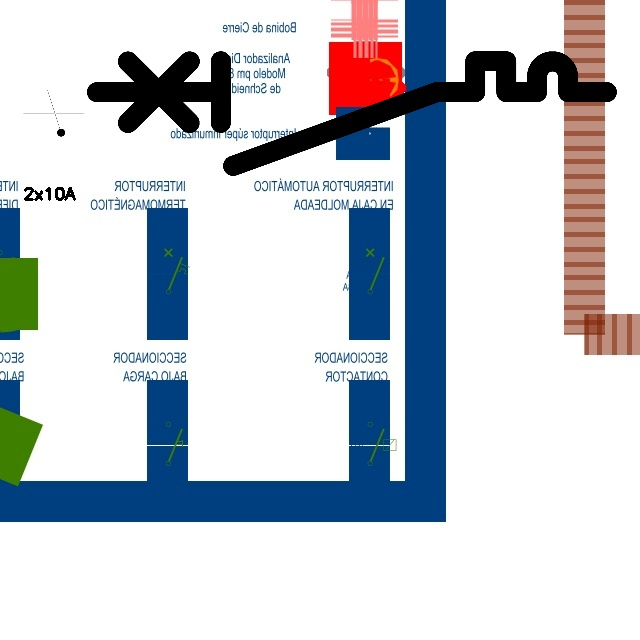interruptor_termomagnetico: (83, 48, 619, 179)
